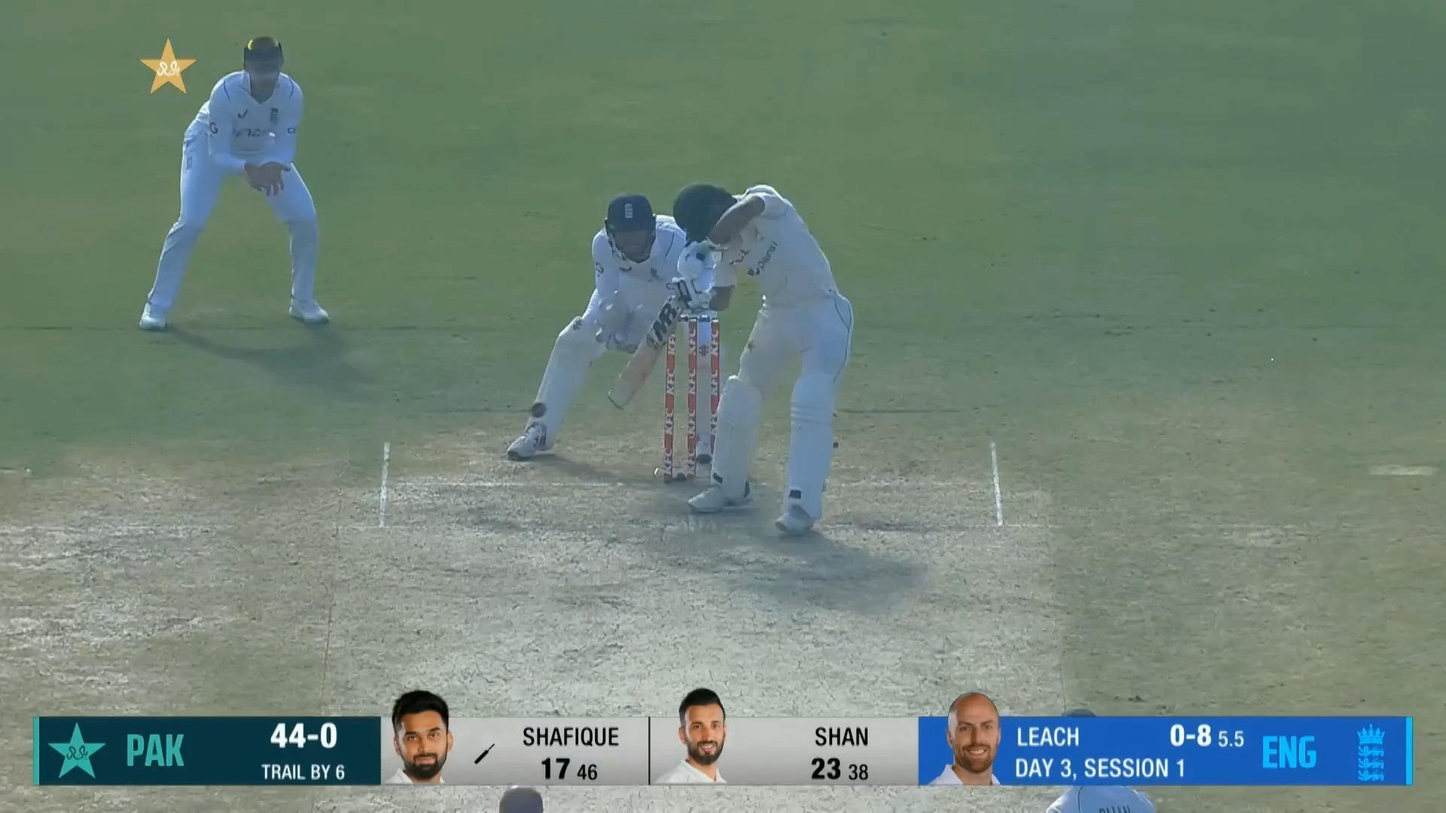BM 1: (607, 183, 855, 537)
BO: (496, 784, 546, 813)
